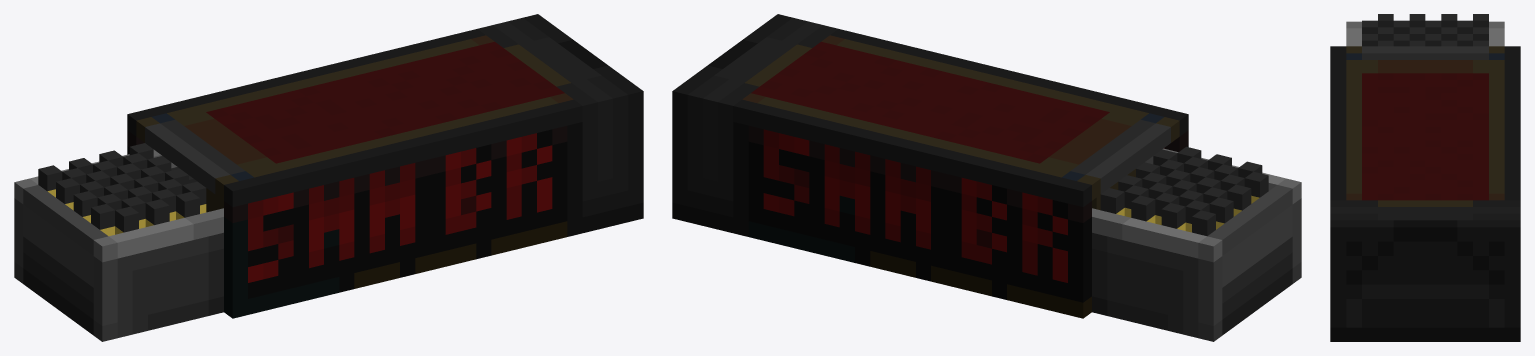
Rendered from 5mmbxA.obj.
The picture shows the model from 3 angles, left to right: view 1: azimuth 30°, elevation 25°; view 2: azimuth 150°, elevation 25°; view 3: azimuth 270°, elevation 25°; orthographic projection. The views are drawn at different scales.
Size of the model in its own units: 3.5 by 0.8 by 1.2.
1 material, 1 textured.
